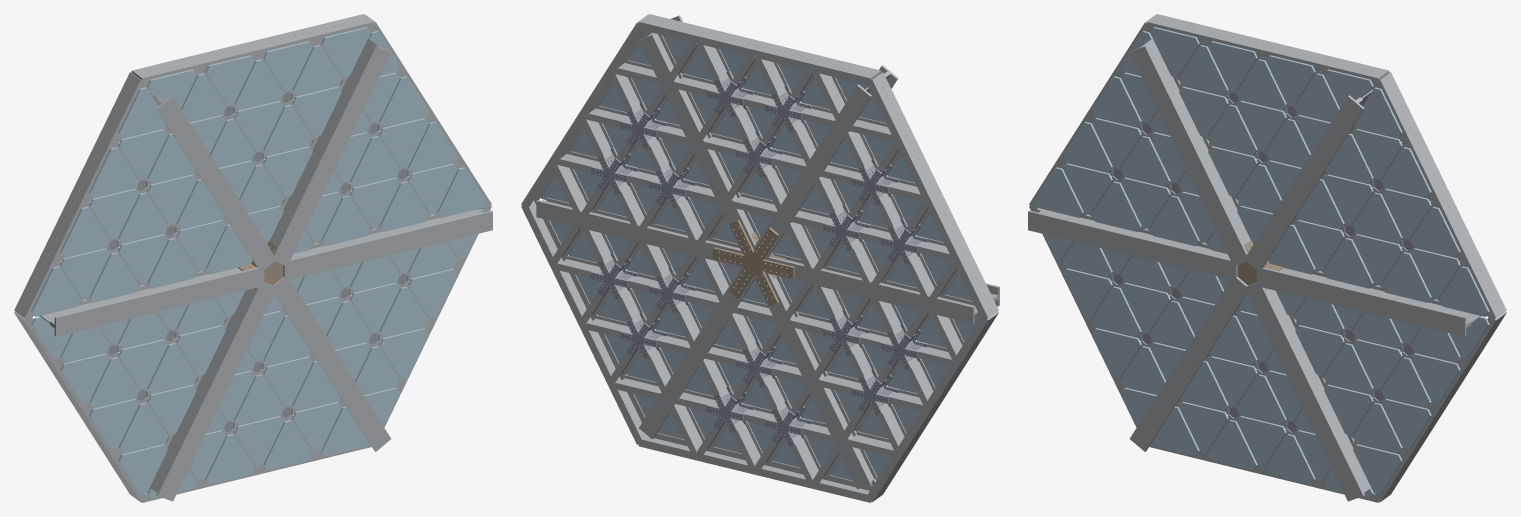
File: A-02A_hexagon_panel.glb
3 views of the same model, side by side, from view 1: azimuth 30°, elevation 25°; view 2: azimuth 150°, elevation 25°; view 3: azimuth 330°, elevation 25° (orthographic).
Parts seen in each view (by area): view 1: frame 3_2, frame 2_1, main rib 2_9, main rib 5_18, cap angle 2b_11, cap angle 5a_19, cap angle 4a_16, cap angle 1b_8, frame 4_3, cap angle 3b_14, cap angle 6a_22, cap angle 4b_17 (+91 smaller); view 2: frame 3_2, main rib 2_9, main rib 5_18, frame 2_1, frame 6_5, main rib 4_15, main rib 1_6, frame 5_4, main rib 3_12, main rib 6_21, frame 4_3, hub plate outer_25 (+81 smaller); view 3: frame 1_0, frame 2_1, main rib 3_12, main rib 6_21, cap angle 3a_13, cap angle 6b_23, cap angle 1b_8, cap angle 4a_16, cap angle 2a_10, frame 6_5, cap angle 5b_20, cap angle 1a_7 (+91 smaller).
Boxes of the visible parts, bbox=[...] form: frame 3_2: bbox=[14, 72, 146, 320]; frame 2_1: bbox=[131, 14, 374, 85]; main rib 2_9: bbox=[270, 38, 383, 263]; main rib 5_18: bbox=[150, 284, 269, 498]; cap angle 2b_11: bbox=[272, 44, 382, 263]; cap angle 5a_19: bbox=[156, 282, 268, 498]; cap angle 4a_16: bbox=[50, 267, 264, 326]; cap angle 1b_8: bbox=[283, 210, 492, 270]; frame 4_3: bbox=[14, 311, 146, 502]; cap angle 3b_14: bbox=[156, 99, 268, 272]; cap angle 6a_22: bbox=[272, 281, 382, 451]; cap angle 4b_17: bbox=[50, 277, 264, 336]; frame 3_2: bbox=[866, 72, 998, 320]; main rib 2_9: bbox=[639, 18, 760, 253]; main rib 5_18: bbox=[753, 272, 877, 489]; frame 2_1: bbox=[638, 14, 881, 85]; frame 6_5: bbox=[521, 199, 648, 444]; main rib 4_15: bbox=[765, 253, 999, 323]; main rib 1_6: bbox=[536, 197, 742, 266]; frame 5_4: bbox=[638, 433, 872, 502]; main rib 3_12: bbox=[753, 71, 890, 258]; main rib 6_21: bbox=[639, 266, 754, 439]; frame 4_3: bbox=[866, 311, 998, 501]; hub plate outer_25: bbox=[713, 219, 794, 306]; frame 1_0: bbox=[1374, 72, 1506, 320]; frame 2_1: bbox=[1146, 14, 1389, 85]; main rib 3_12: bbox=[1137, 38, 1250, 263]; main rib 6_21: bbox=[1251, 284, 1370, 498]; cap angle 3a_13: bbox=[1138, 44, 1248, 263]; cap angle 6b_23: bbox=[1252, 282, 1364, 498]; cap angle 1b_8: bbox=[1256, 267, 1470, 326]; cap angle 4a_16: bbox=[1028, 210, 1237, 270]; cap angle 2a_10: bbox=[1252, 99, 1364, 272]; frame 6_5: bbox=[1376, 311, 1506, 502]; cap angle 5b_20: bbox=[1138, 281, 1248, 451]; cap angle 1a_7: bbox=[1256, 277, 1470, 336].
Bounding box in the file's own units: 4535 × 3937 × 475.
